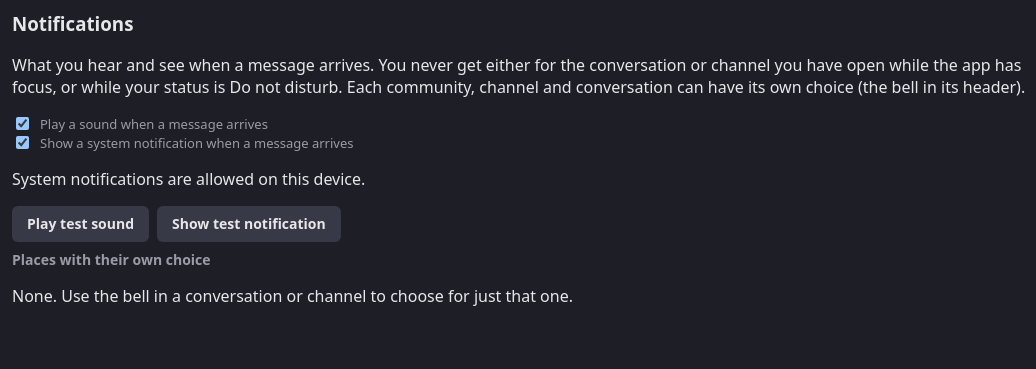
Scenario: Settings -> Notifications › the test buttons › shows a test notification when allowed
Expected: the text "System notifications are allowed on this device." is shown, [12,168,365,190]
What coordinates should you click on to do the following:
click the button "Show test notification"
I would click on:
 (249, 224)
Its box is [157,206,341,242].
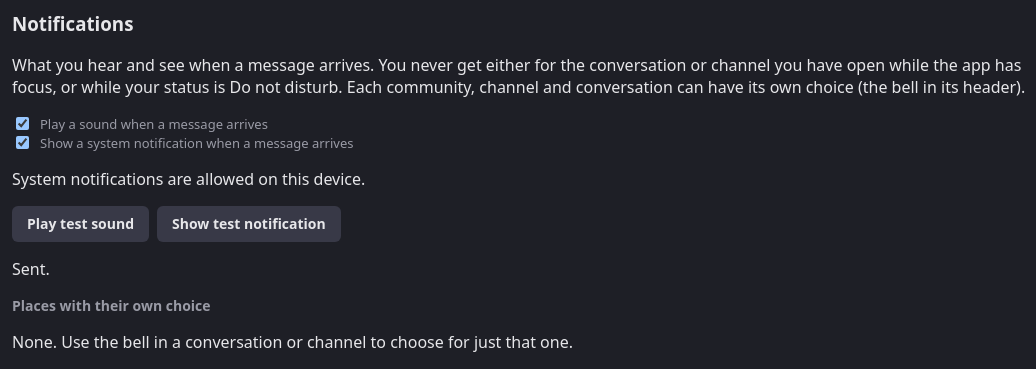
Expected: the text "Sent." is shown, [12,258,50,280]
